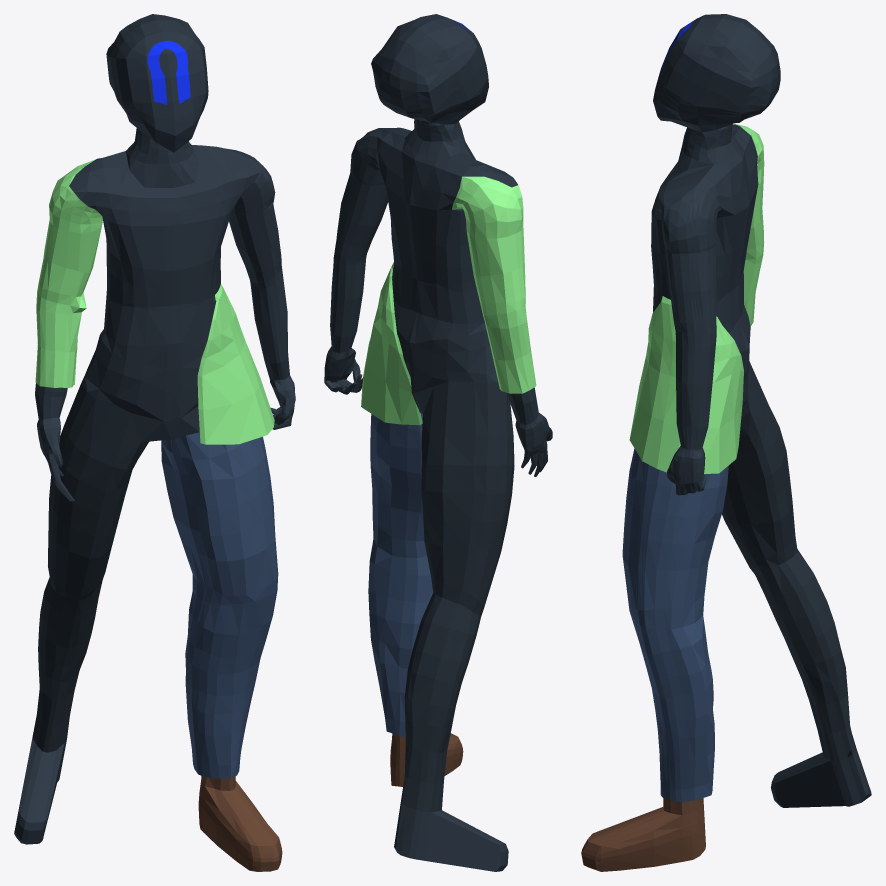
File: Mar_Stun_000012.obj
The picture shows the model from 3 angles, left to right: view 1: azimuth 30°, elevation 25°; view 2: azimuth 150°, elevation 25°; view 3: azimuth 270°, elevation 25°; orthographic projection. The views are drawn at different scales.
Parts seen in each view (by area): view 1: Cube.000_Cube.001; view 2: Cube.000_Cube.001; view 3: Cube.000_Cube.001.
Part boxes in pixels (box(x1,y1,x2,y2)): Cube.000_Cube.001: box(14, 14, 295, 871); Cube.000_Cube.001: box(324, 14, 552, 871); Cube.000_Cube.001: box(581, 14, 871, 871).
Size of the model in its own units: 1.2 by 3.99 by 1.26.
